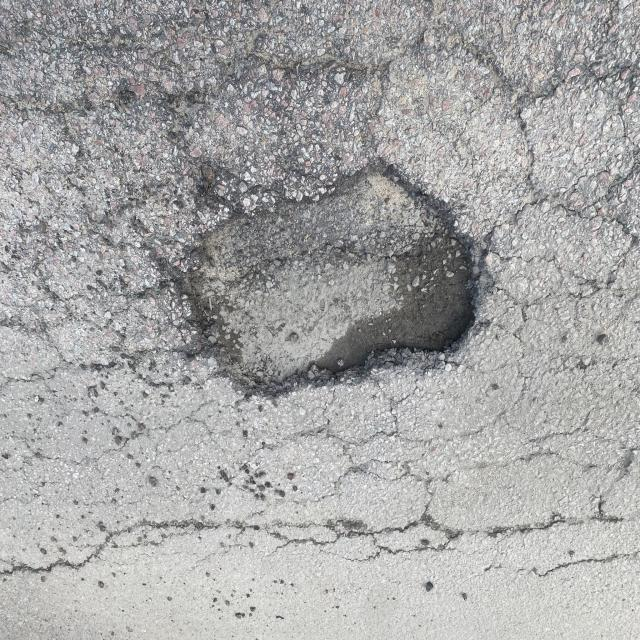Pothole: (168, 146, 532, 441)
